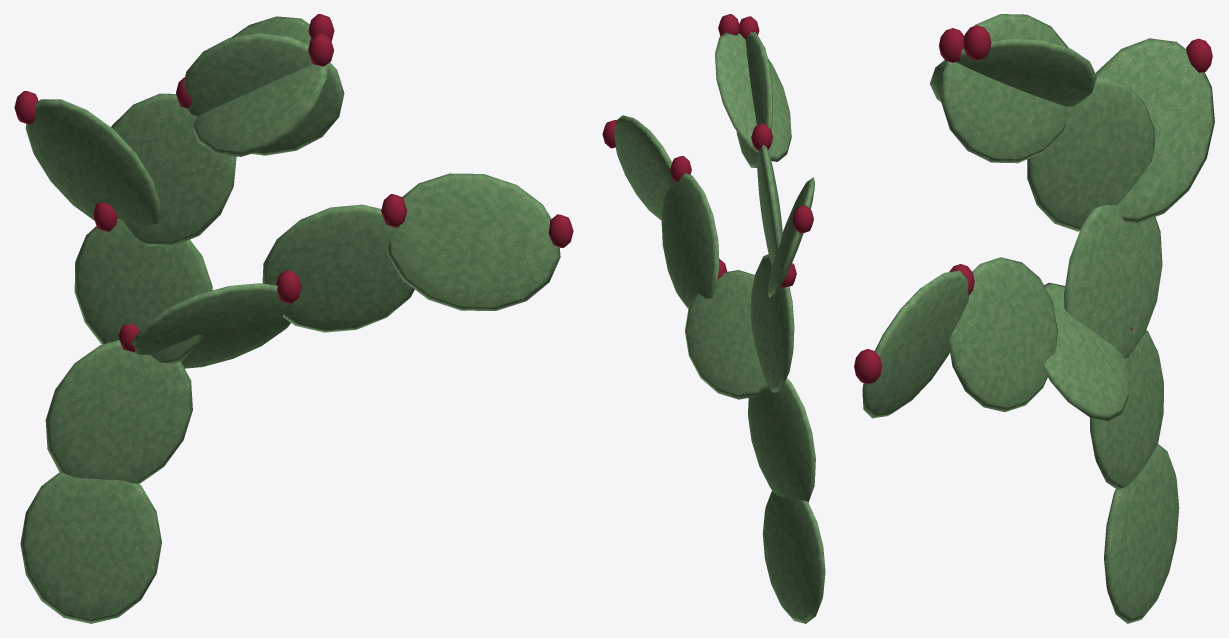
Rendered from cactus_pear_01.glb.
The picture shows the model from 3 angles, left to right: view 1: azimuth 30°, elevation 25°; view 2: azimuth 150°, elevation 25°; view 3: azimuth 270°, elevation 25°; orthographic projection. The views are drawn at different scales.
Parts seen in each view (by area): view 1: cactus_pear_01; view 2: cactus_pear_01; view 3: cactus_pear_01.
Boxes of the visible parts, x1=… form: cactus_pear_01: x1=14, y1=14, x2=573, y2=623; cactus_pear_01: x1=602, y1=14, x2=825, y2=623; cactus_pear_01: x1=854, y1=14, x2=1214, y2=623.
Size of the model in its own units: 1.79 by 2.64 by 1.28.
Materials: 2 (1 with a texture image).
